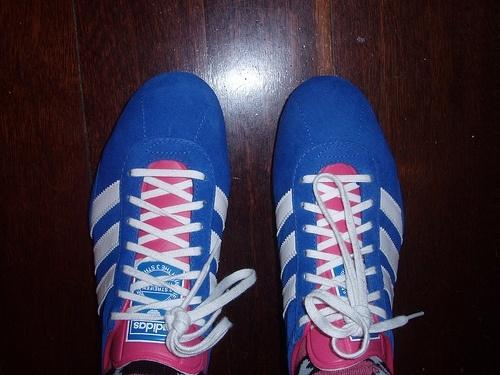marca: (91, 171, 125, 309), (381, 181, 405, 300)
shoe: (90, 73, 255, 374), (273, 76, 422, 373)
texto: (126, 318, 175, 338)
